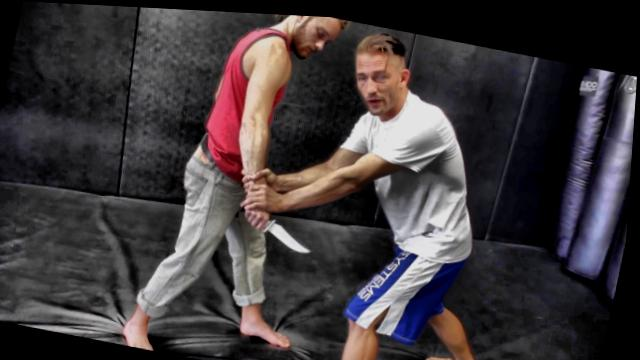knife: (229, 197, 325, 258)
